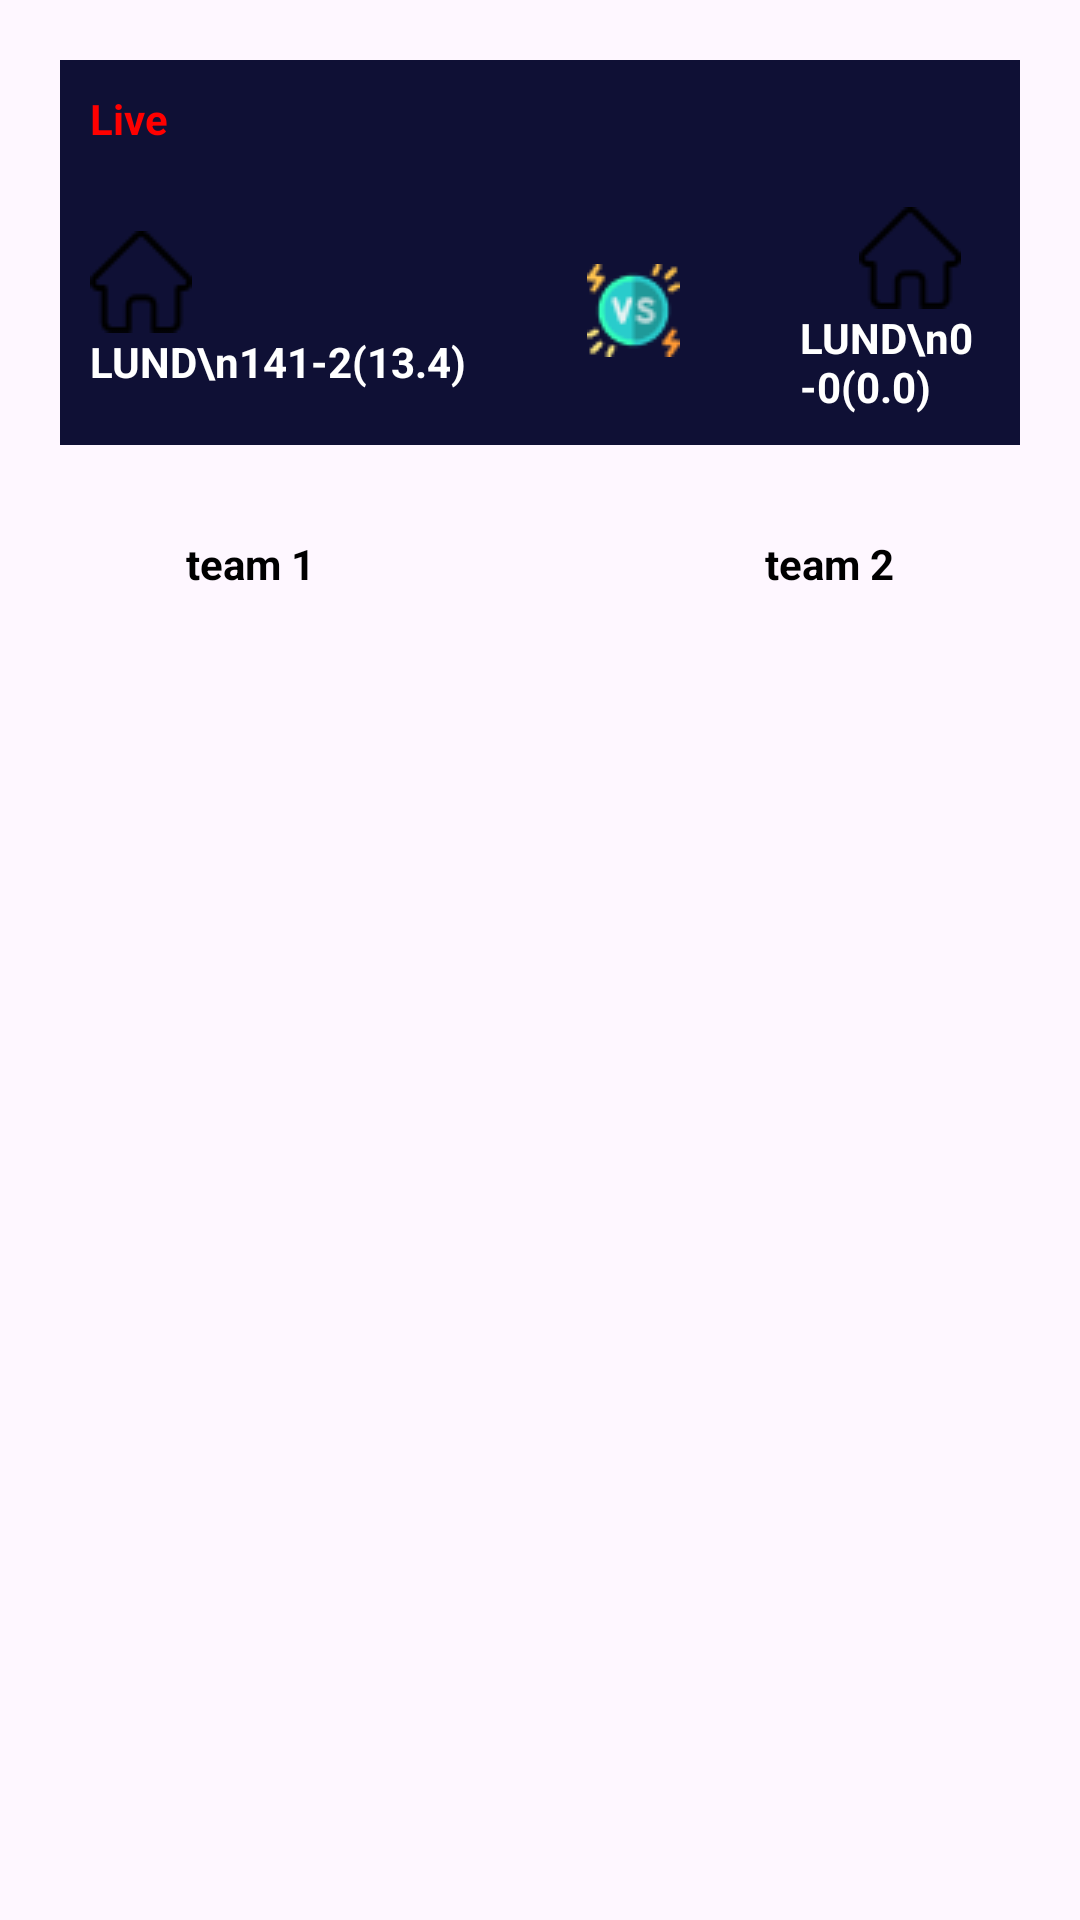

Point at icon controls on the screen. Image size 1080*1920, points as (x,y).
navhome: (910,258), (141,282)
